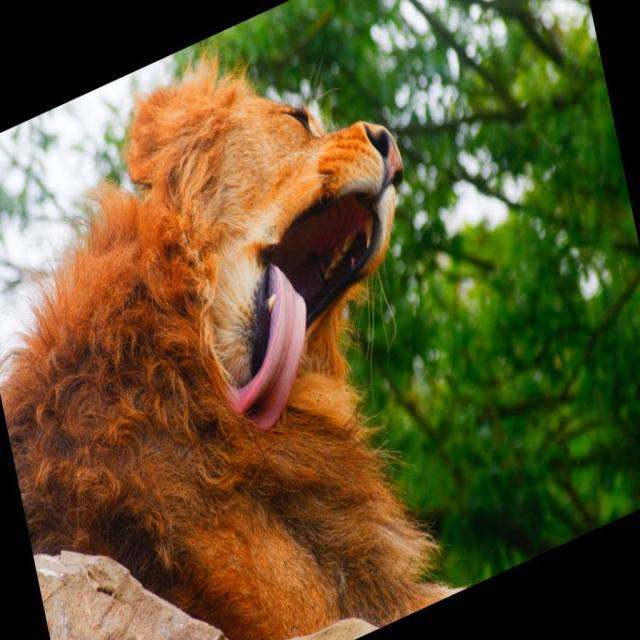Lion: (0, 0, 486, 639)
